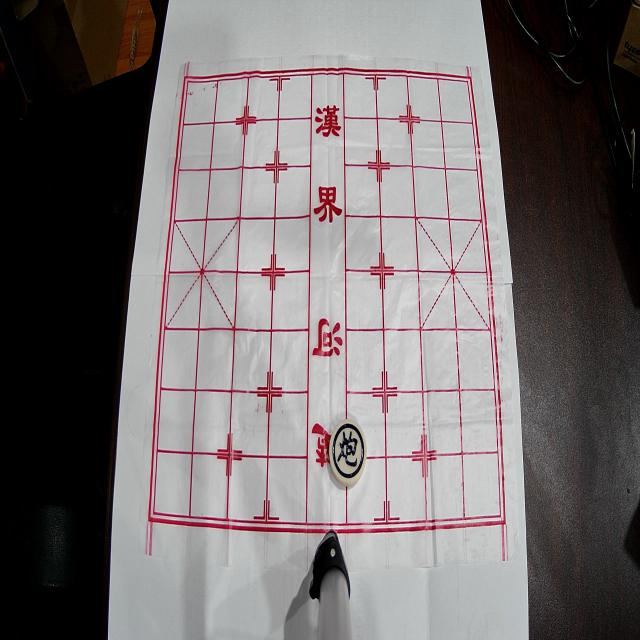black-cannon: (329, 419, 367, 486)
